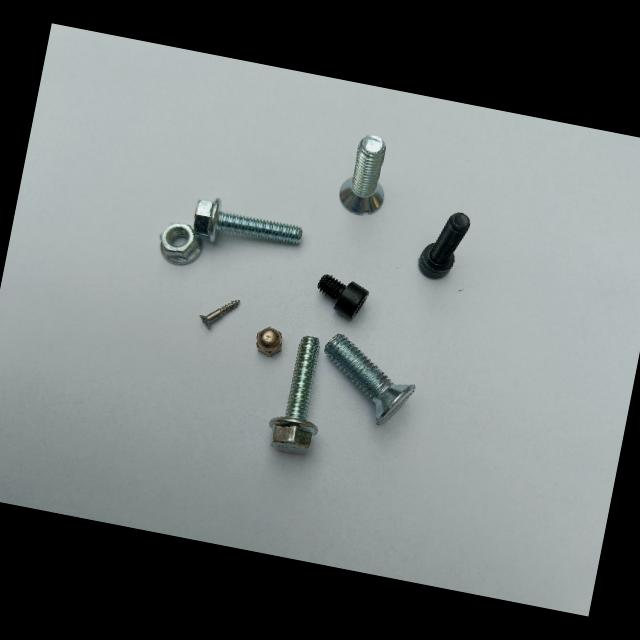bolt: (325, 334, 415, 425), (269, 337, 320, 453), (194, 199, 302, 244), (340, 135, 386, 215), (419, 213, 470, 279), (317, 274, 369, 320), (200, 300, 240, 329)
nuts: (160, 224, 202, 265), (256, 327, 282, 357)
